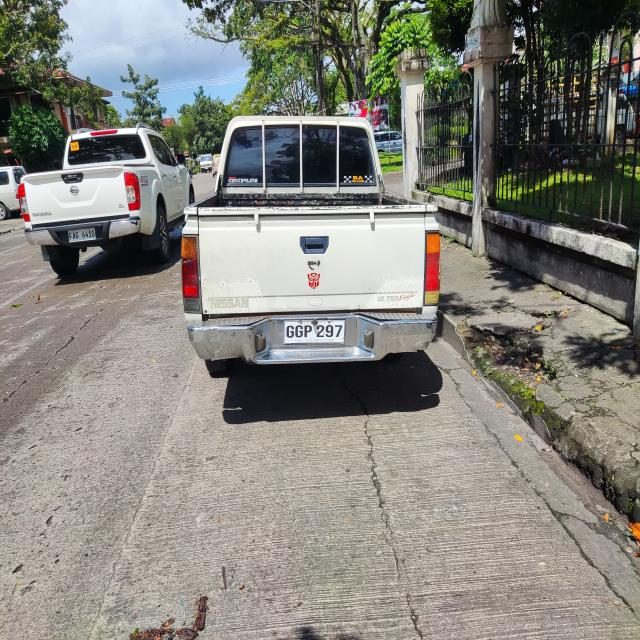plate: (283, 319, 346, 345)
